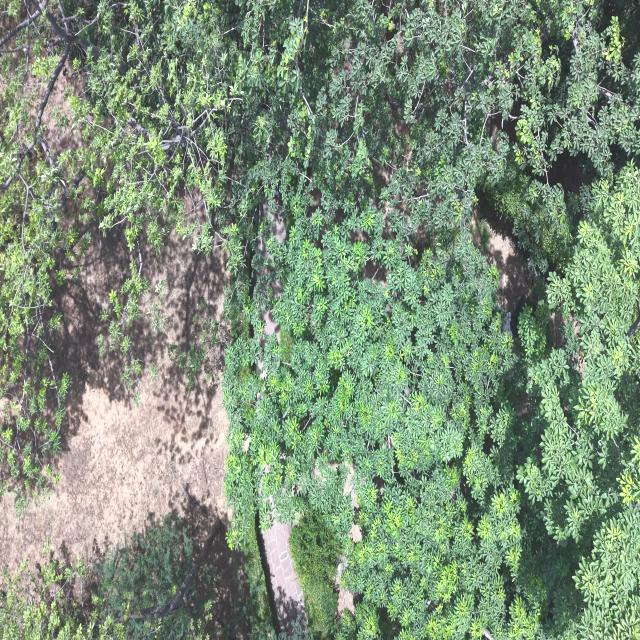DRY_AREA: (0, 240, 228, 609), (0, 222, 228, 569), (0, 229, 228, 569), (0, 237, 228, 569), (0, 238, 228, 569), (0, 240, 228, 569), (0, 389, 226, 566), (0, 389, 226, 563), (471, 200, 536, 333), (472, 202, 536, 333), (469, 189, 536, 311), (471, 199, 534, 311), (472, 215, 531, 310), (262, 521, 306, 630), (262, 521, 306, 629), (262, 522, 306, 629), (263, 521, 306, 629), (262, 522, 305, 629), (265, 523, 303, 622), (487, 230, 532, 311), (336, 557, 354, 613), (336, 561, 354, 614)
PATHWAYS: (263, 522, 305, 629)
VEGETATION_TREE: (0, 0, 639, 639), (224, 2, 639, 637), (224, 2, 513, 537), (0, 0, 241, 513), (70, 2, 241, 393), (518, 162, 639, 636), (0, 0, 89, 513), (73, 2, 243, 250), (0, 516, 272, 639), (0, 523, 218, 639), (97, 517, 272, 639), (97, 518, 223, 639), (98, 517, 194, 613), (0, 557, 111, 639), (290, 511, 340, 636), (168, 298, 224, 392), (243, 528, 275, 637)
